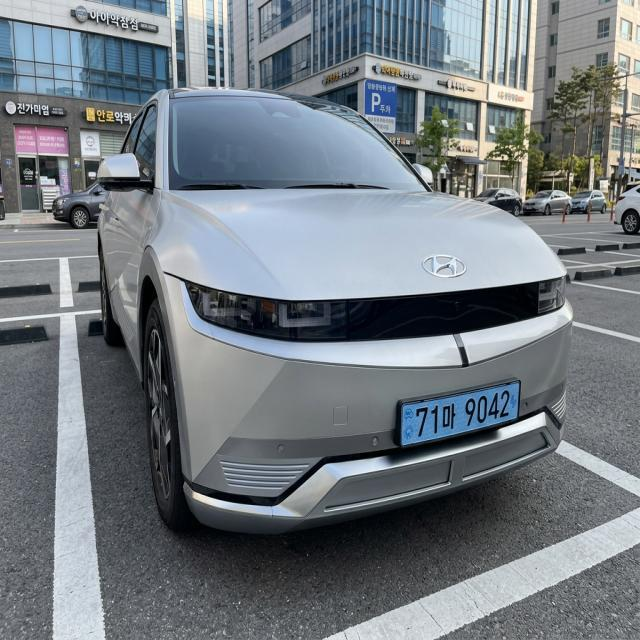car: (388, 371, 532, 459)
carev: (506, 379, 525, 429), (399, 402, 416, 450)
